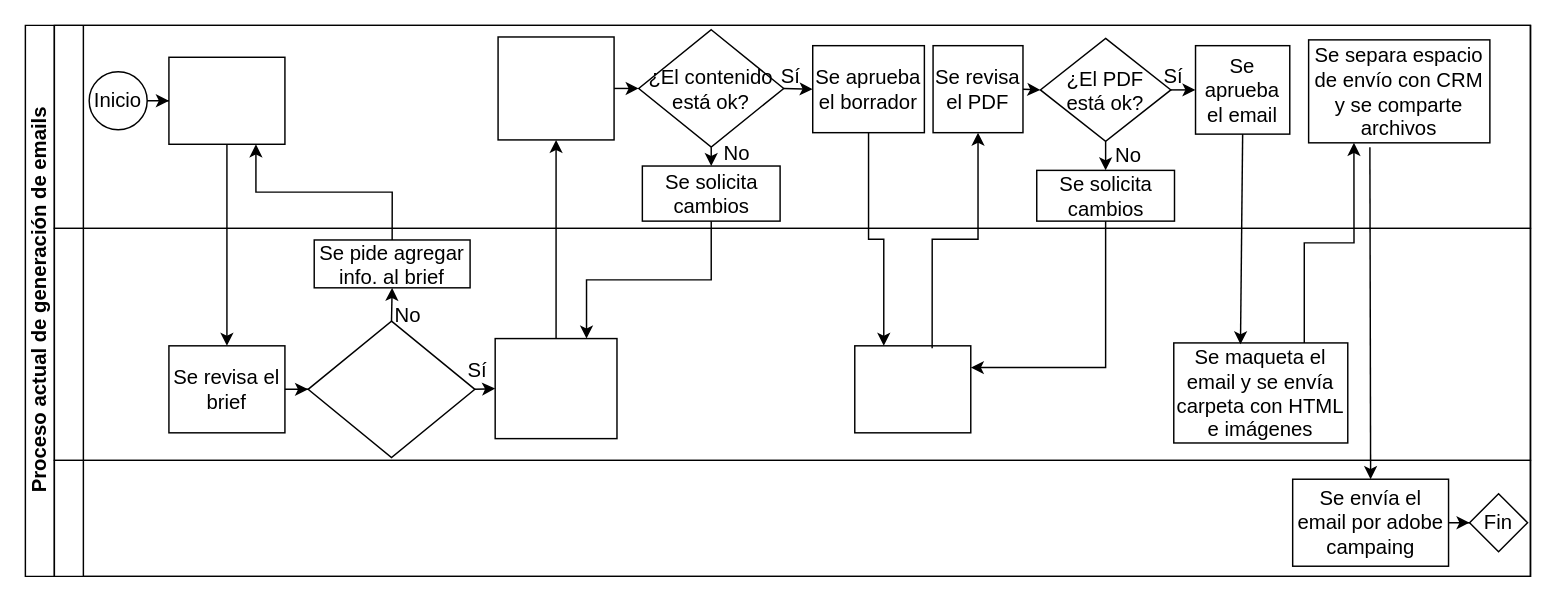
Image size: 1556x602. Some labels were removed from this diagram. Here are the shapes that lost their labels. From the top down, the box of each, then its label:
(167, 56, 285, 144): Se completa un brief de campaña
(497, 36, 614, 140): Se revisa el borrador
(53, 24, 1530, 228): Analista de negocio
(53, 227, 1530, 460): Equipo de diseño
(307, 320, 475, 457): ¿Tiene la información necesaria?
(494, 337, 617, 439): Se crea un borrador del email en word
(853, 344, 971, 433): Se crea un boceto en PDF
(53, 459, 1530, 576): CRM
